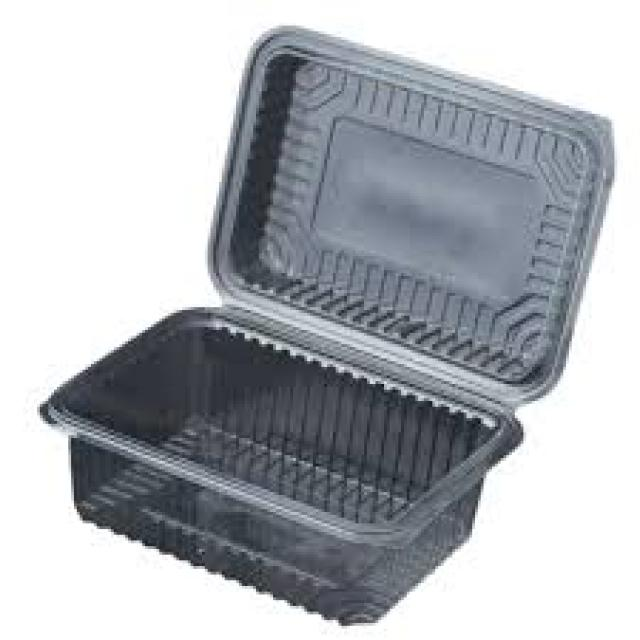disposable: (51, 281, 514, 627), (207, 31, 613, 402)
